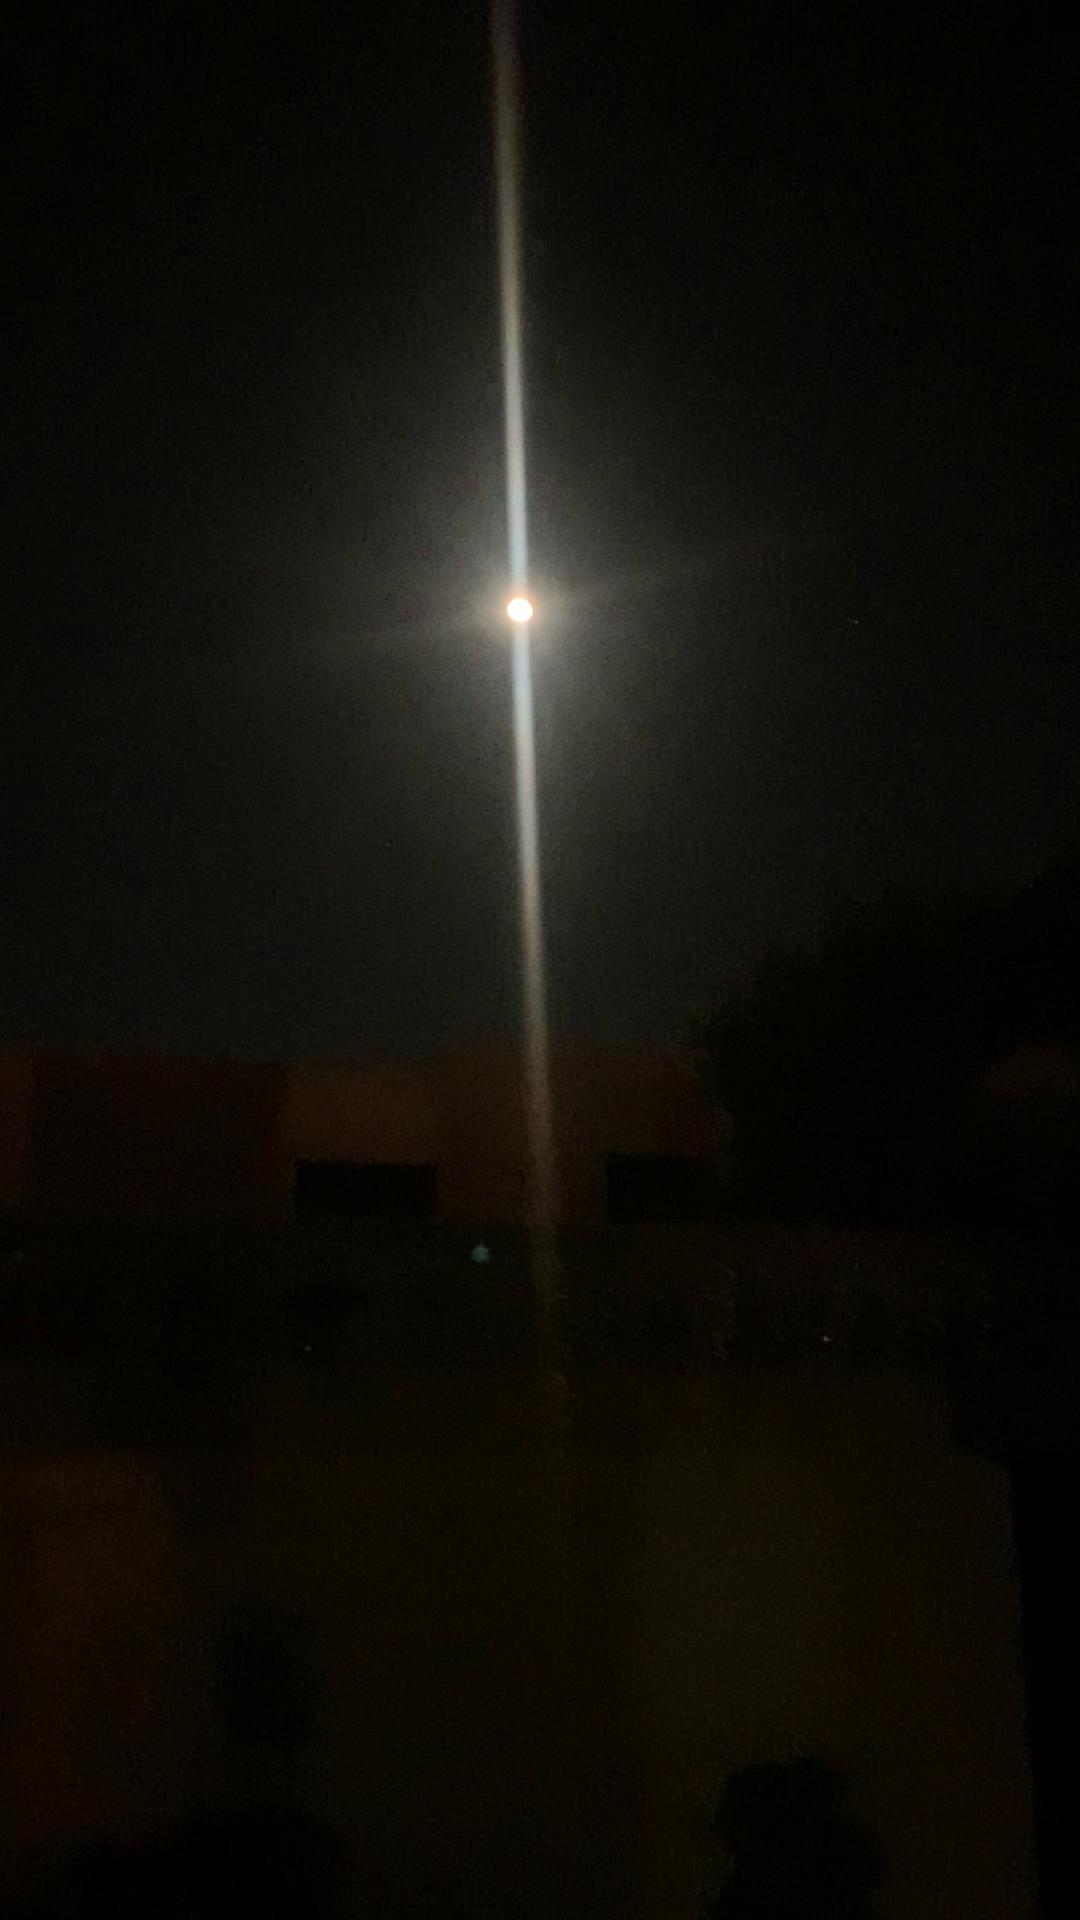moon: (497, 587, 572, 666)
